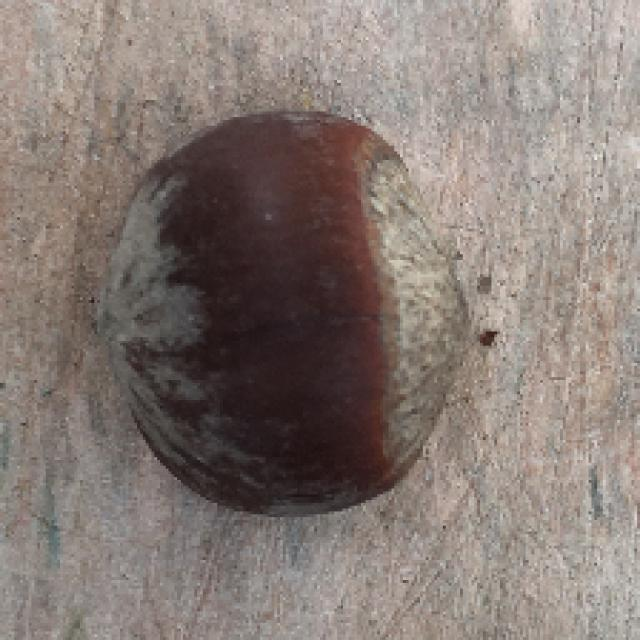damagedHazelnut: (96, 103, 478, 522)
